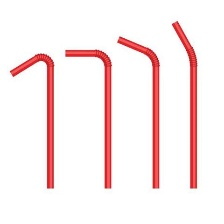drinking_straw: (61, 44, 116, 192), (113, 31, 163, 191), (7, 46, 57, 191), (168, 16, 204, 191)
